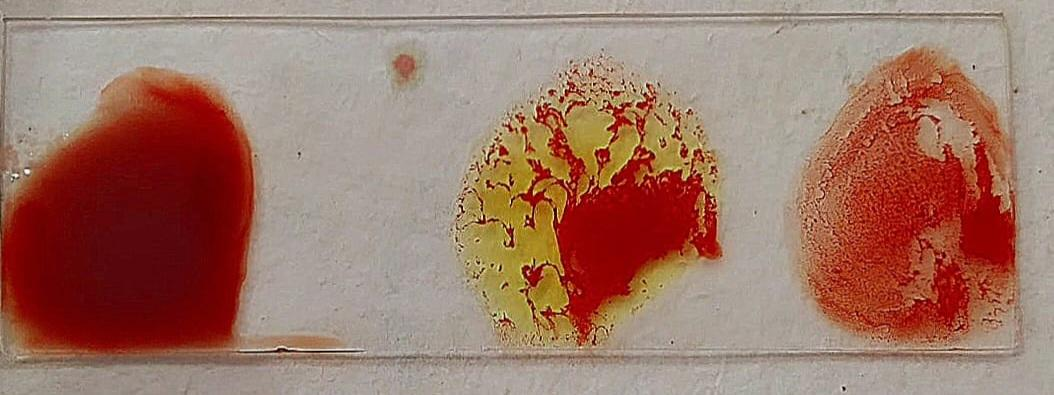B: (465, 65, 714, 349), (800, 53, 1013, 344)
